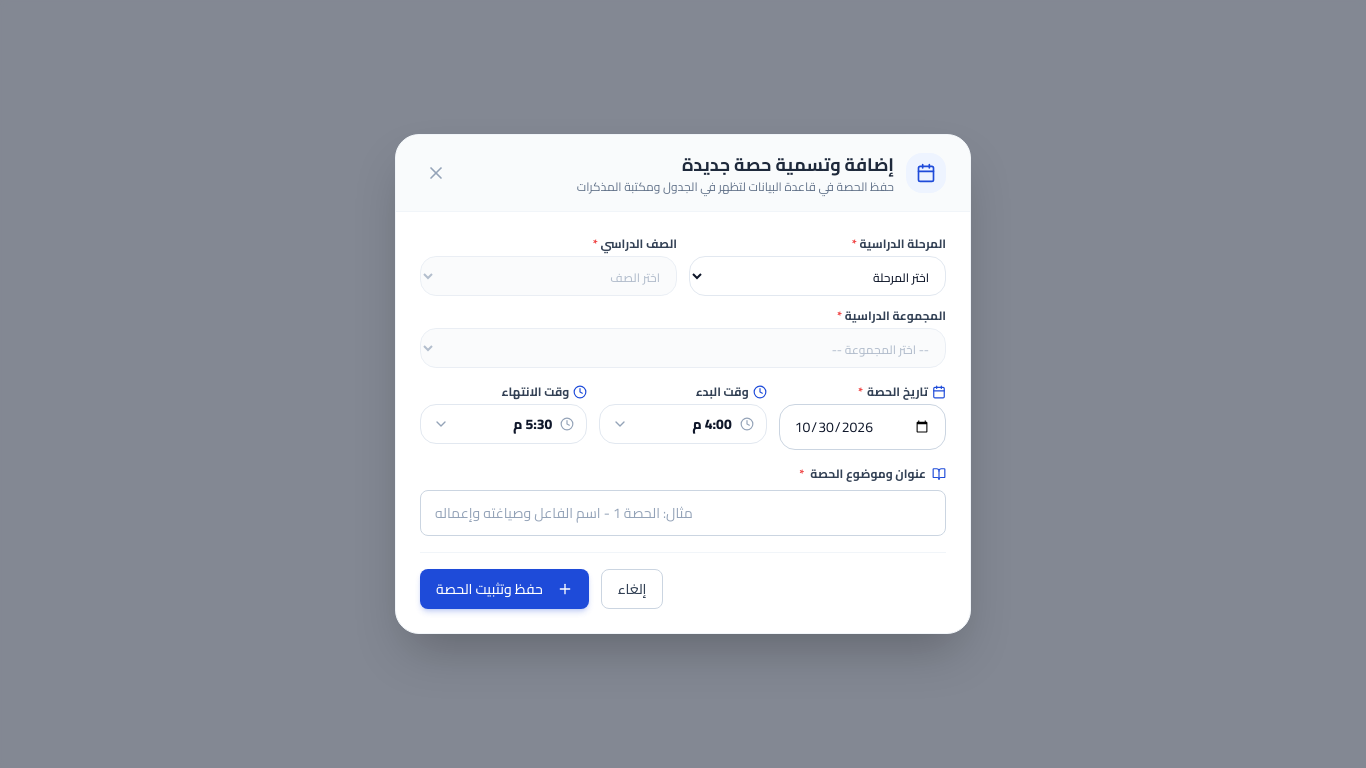
Test: CreateSessionModal group filters › requires stage and grade before enabling the group select
Expected: the dropdown labelled "المجموعة الدراسية" is disabled, [420,328,946,368]
Expected: the dropdown named "الصف الدراسي" is disabled, [420,256,677,296]
Select "الثانوية" in the dropdown named "المرحلة الدراسية" at (818, 276), box [689,256,946,296]
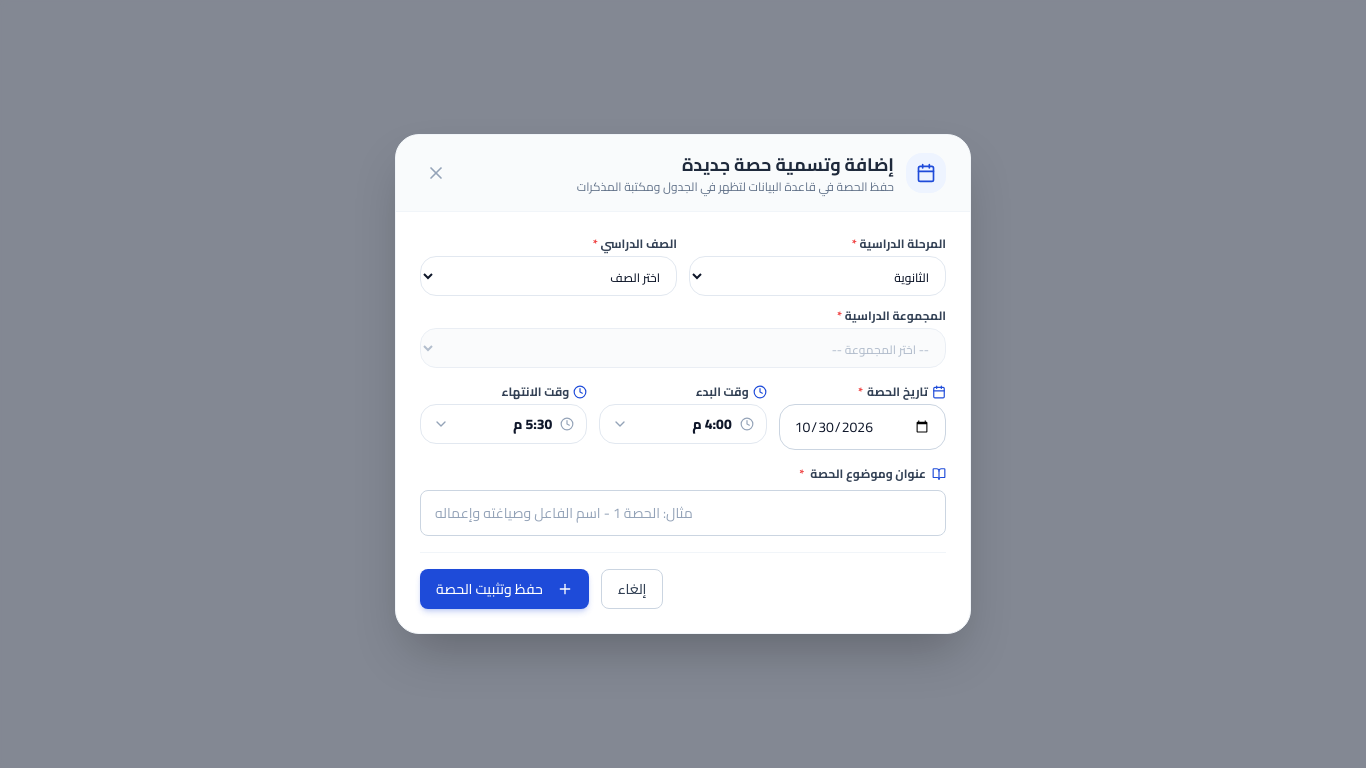
Result: the dropdown named "الصف الدراسي" is enabled
Select "الصف الأول الثانوي" in the dropdown named "الصف الدراسي" at (548, 276), box [420,256,677,296]
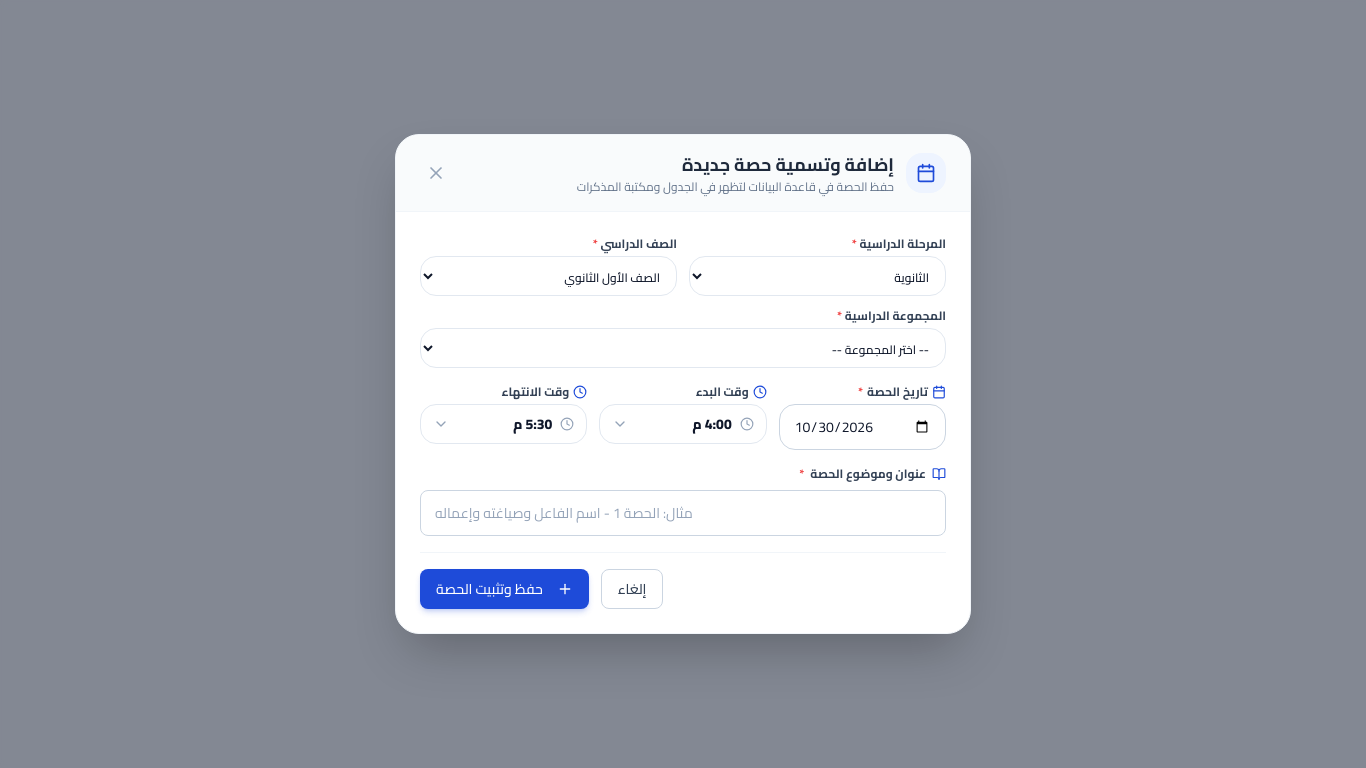
Result: the dropdown labelled "المجموعة الدراسية" is enabled at [420,328,946,368]
